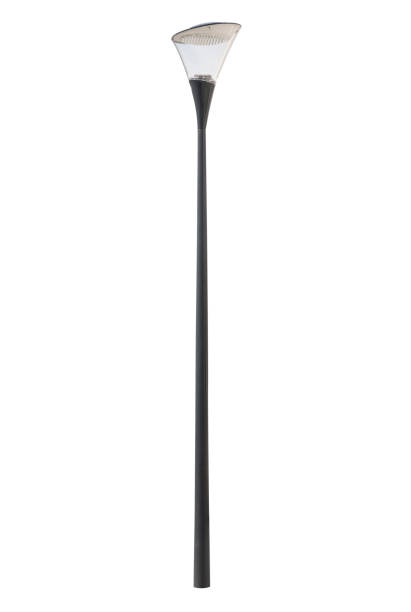light_pole: (190, 121, 216, 589)
